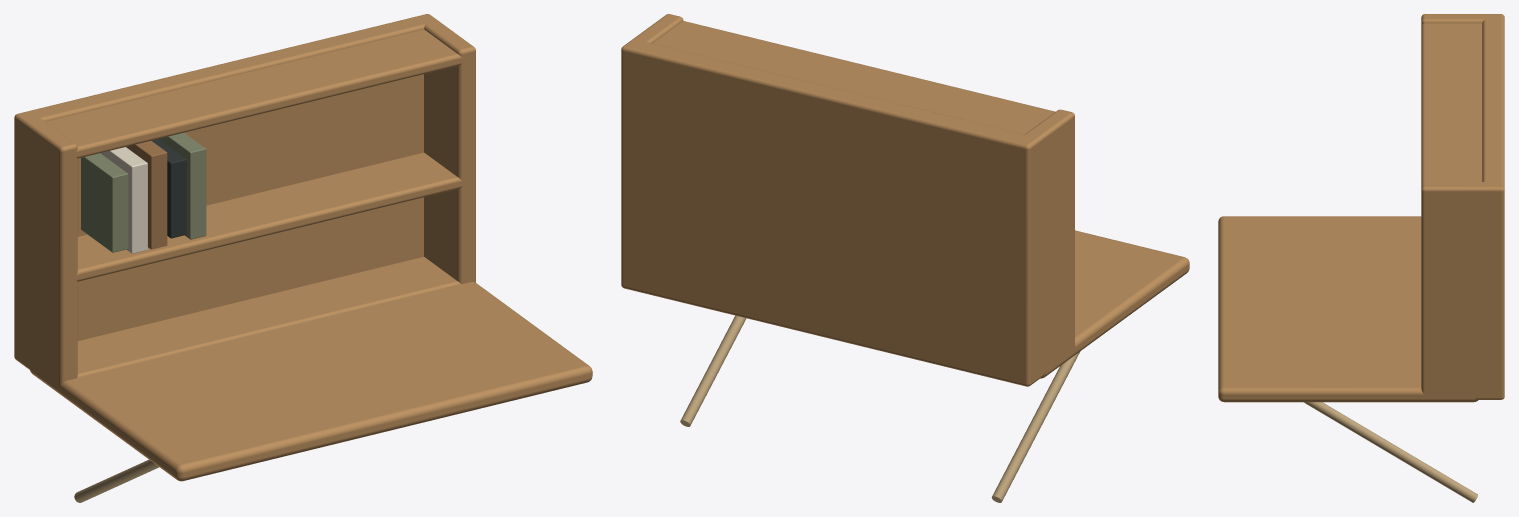
3 renders of one model, left to right at view 1: azimuth 30°, elevation 25°; view 2: azimuth 150°, elevation 25°; view 3: azimuth 270°, elevation 25°, orthographic. The views are drawn at different scales.
Visible parts, largest first — view 1: Fold-out writing surface, Wall storage back, Storage shelf (×3), Cabinet side (×2), Cloth-bound book (×5), Folding steel stay; view 2: Wall storage back, Cabinet side (×2), Storage shelf, Fold-out writing surface, Folding steel stay (×2); view 3: Fold-out writing surface, Cabinet side (×2), Storage shelf, Wall storage back, Folding steel stay.
Part boxes in pixels (x1,y1,x2,y2): Fold-out writing surface: (30, 282, 592, 481); Wall storage back: (14, 14, 437, 365); Storage shelf (×3): (45, 29, 464, 377); Cabinet side (×2): (16, 15, 475, 386); Cloth-bound book (×5): (81, 133, 206, 253); Folding steel stay: (74, 459, 158, 502); Wall storage back: (621, 39, 1039, 386); Cabinet side (×2): (627, 14, 1074, 384); Storage shelf: (653, 21, 1055, 134); Fold-out writing surface: (1040, 230, 1189, 378); Folding steel stay (×2): (680, 315, 1080, 502); Fold-out writing surface: (1218, 216, 1478, 402); Cabinet side (×2): (1421, 14, 1498, 399); Storage shelf: (1421, 23, 1482, 184); Wall storage back: (1482, 14, 1504, 399); Folding steel stay: (1304, 402, 1477, 502).
Size of the model in its own units: 0.92 by 0.8192 by 0.635.
